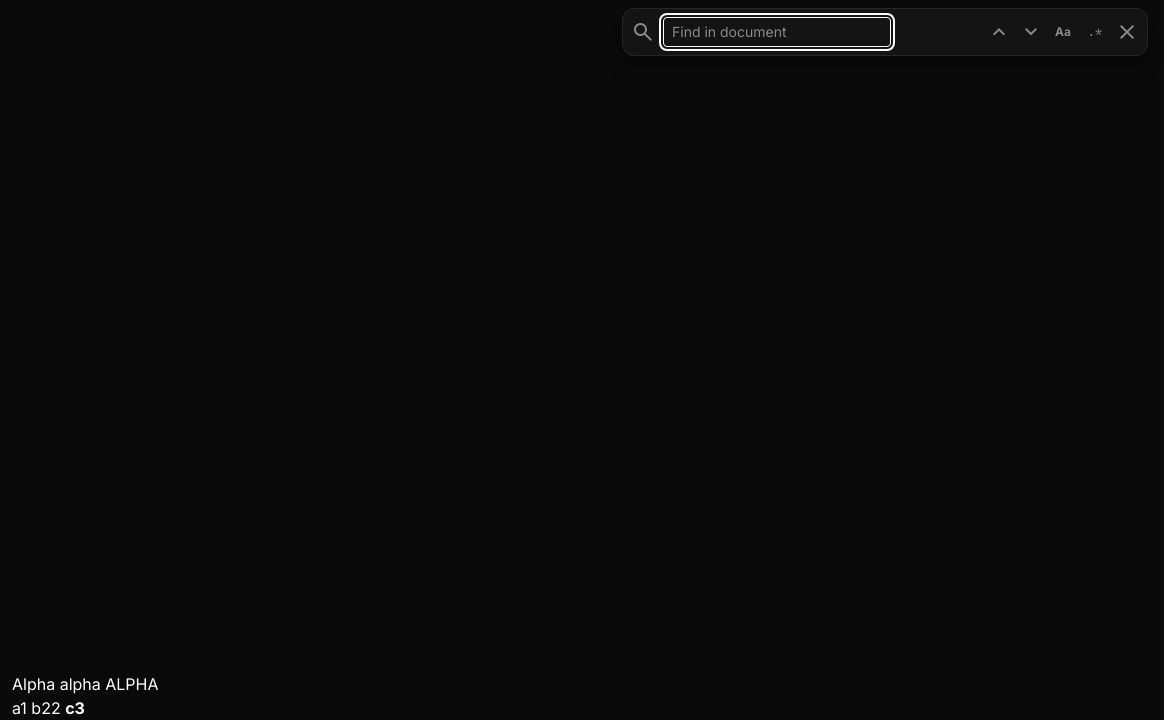
Test case: PreviewFindBar options › says Invalid pattern for a regex that does not compile
Click the button named "Regex" at (1095, 32), box [1083,20,1107,44]
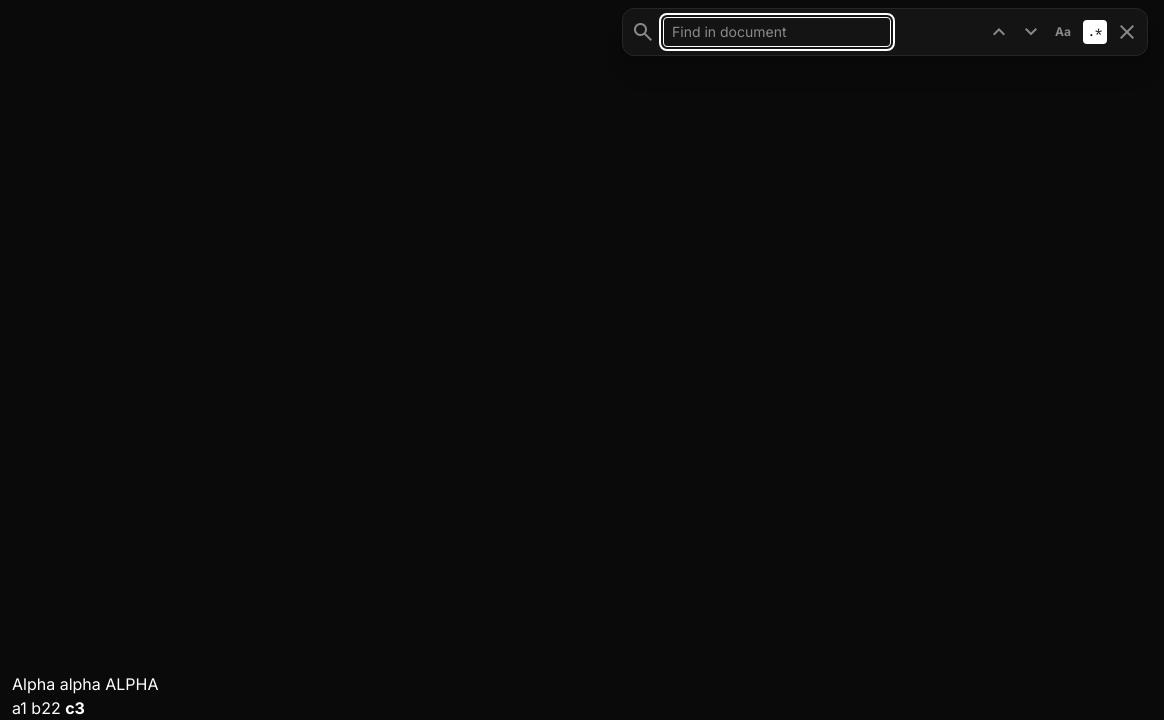
Type "(" into the field labelled "Find in document" at (777, 32), box [663,17,891,47]
Wait 200 ms
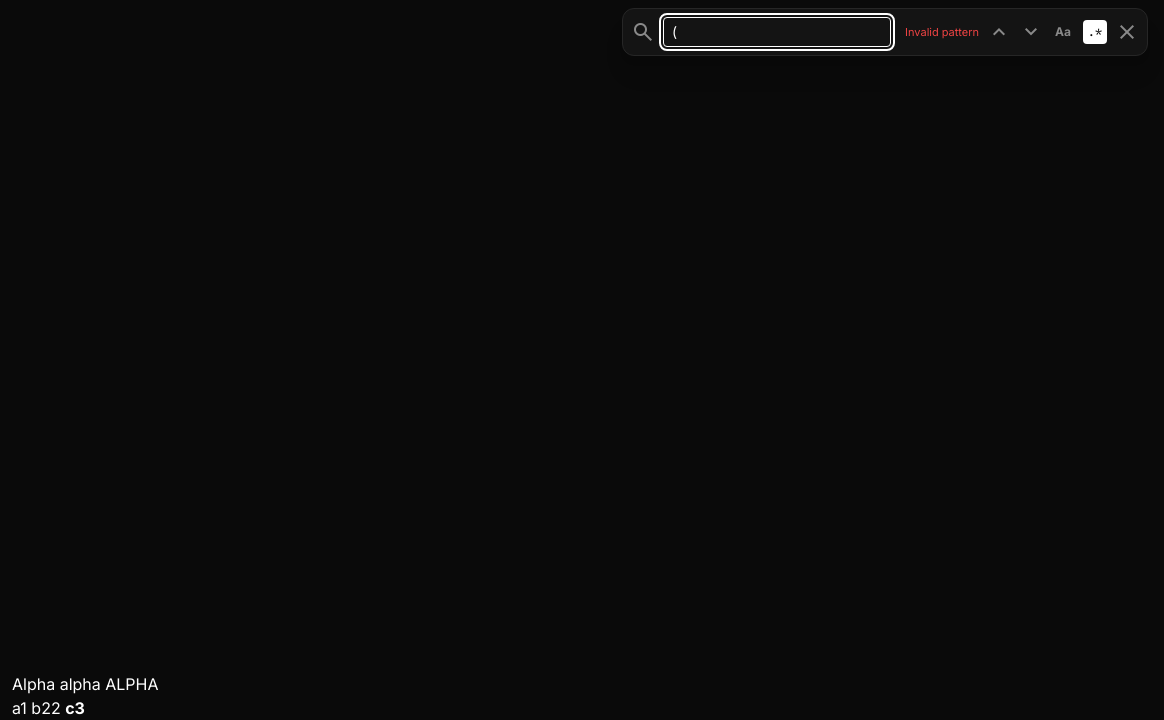
Expected: the element showing "Invalid pattern Aa .*" is shown, [622,8,1148,56]
